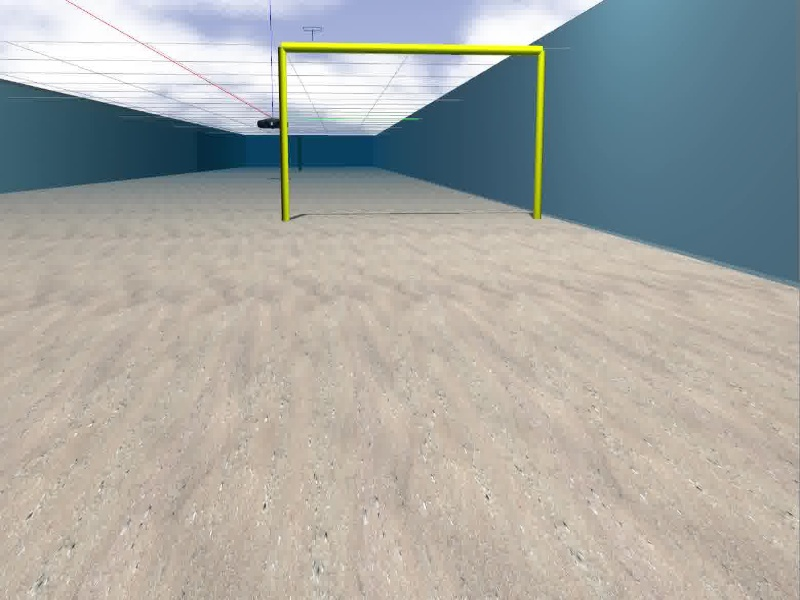gate: (276, 40, 546, 223)
